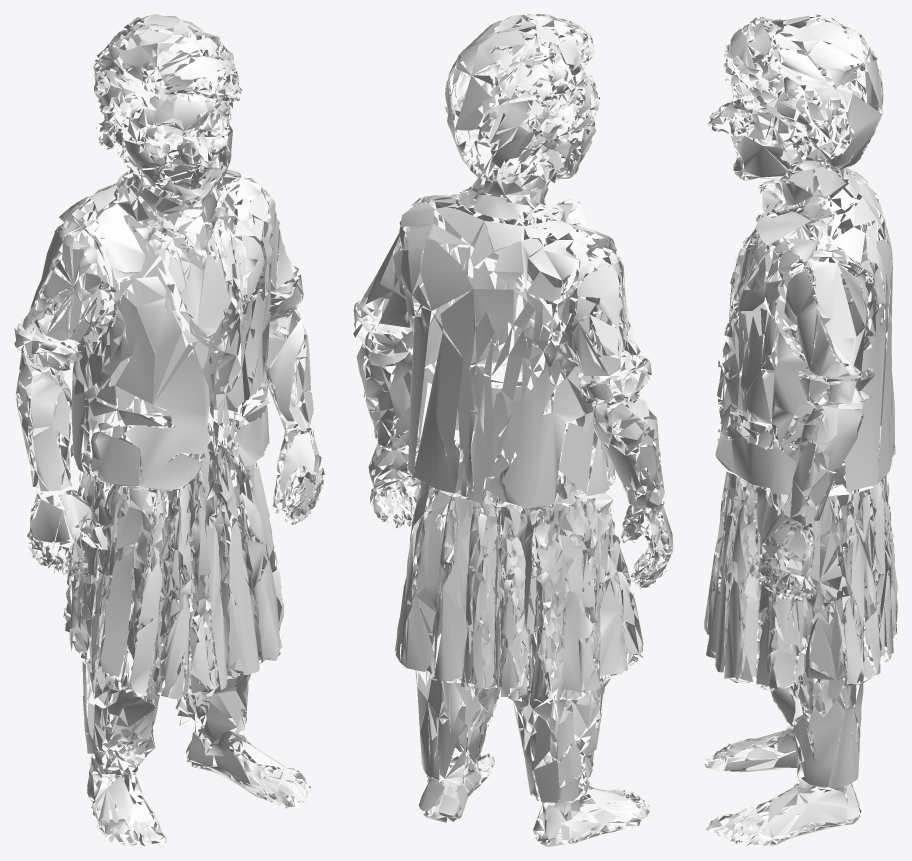
File: beach-coconut-vendor.glb
3 views of the same model, side by side, from view 1: azimuth 30°, elevation 25°; view 2: azimuth 150°, elevation 25°; view 3: azimuth 270°, elevation 25° (orthographic). The views are drawn at different scales.
Visible parts, largest first — view 1: model; view 2: model; view 3: model.
Boxes of the visible parts, x1=… form: model: x1=14, y1=14, x2=324, y2=846; model: x1=353, y1=14, x2=673, y2=846; model: x1=702, y1=14, x2=897, y2=846.
Bounding box in the file's own units: 0.7529 × 1.91 × 0.4375.
1 material, 1 textured.
